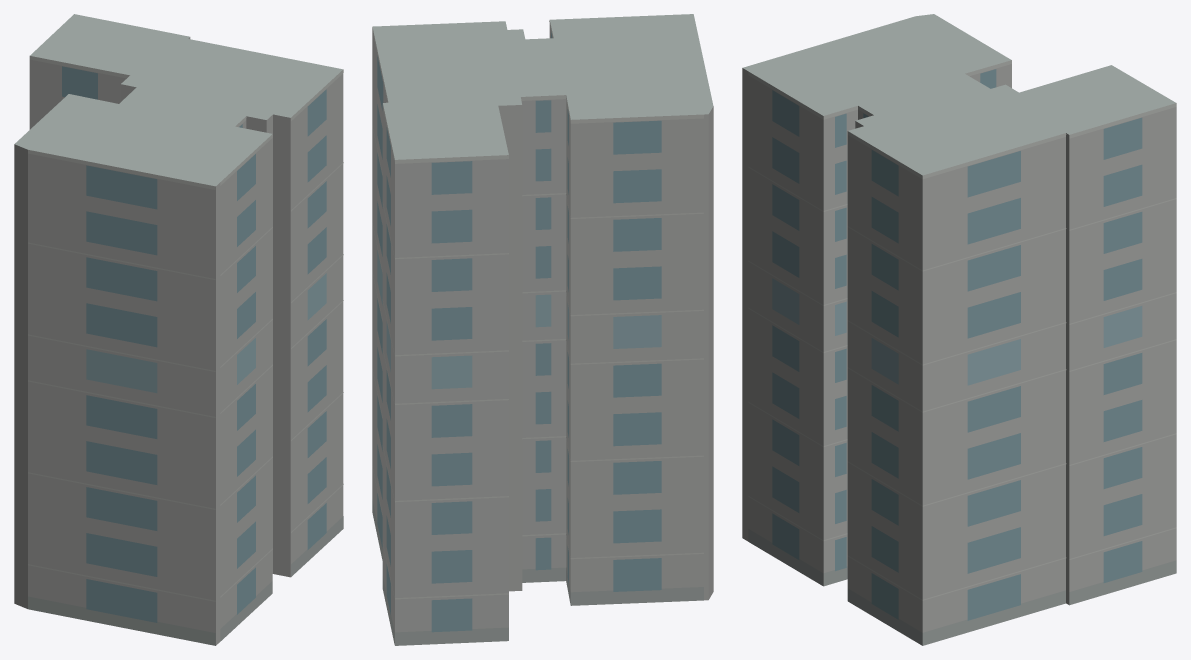
Rendered from survey-upis-32561128.glb.
The picture shows the model from 3 angles, left to right: view 1: azimuth 30°, elevation 25°; view 2: azimuth 150°, elevation 25°; view 3: azimuth 270°, elevation 25°; orthographic projection. The views are drawn at different scales.
Visible parts, largest first — view 1: survey-upis-32561128.tmp; view 2: survey-upis-32561128.tmp; view 3: survey-upis-32561128.tmp.
Part boxes in pixels (box(x1,y1,x2,y2)): survey-upis-32561128.tmp: box(14, 14, 343, 645); survey-upis-32561128.tmp: box(372, 14, 713, 645); survey-upis-32561128.tmp: box(742, 14, 1176, 645).
Bounding box in the file's own units: 21.96 × 29.8 × 24.95.
